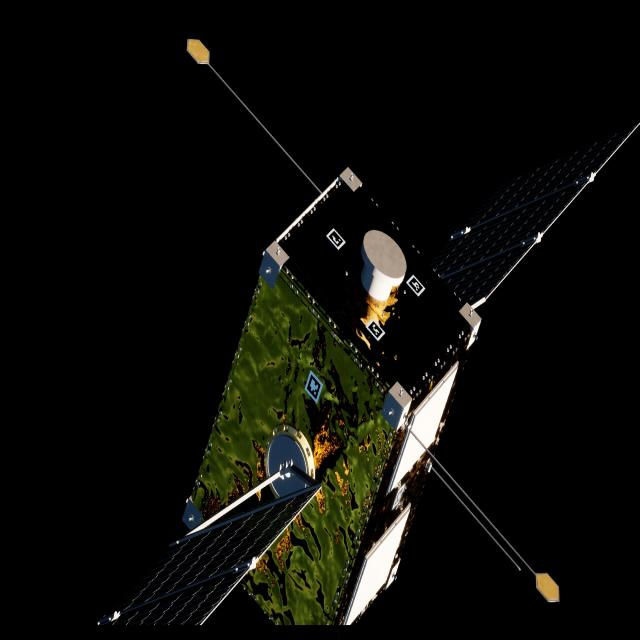satellite: (104, 122, 635, 628)
